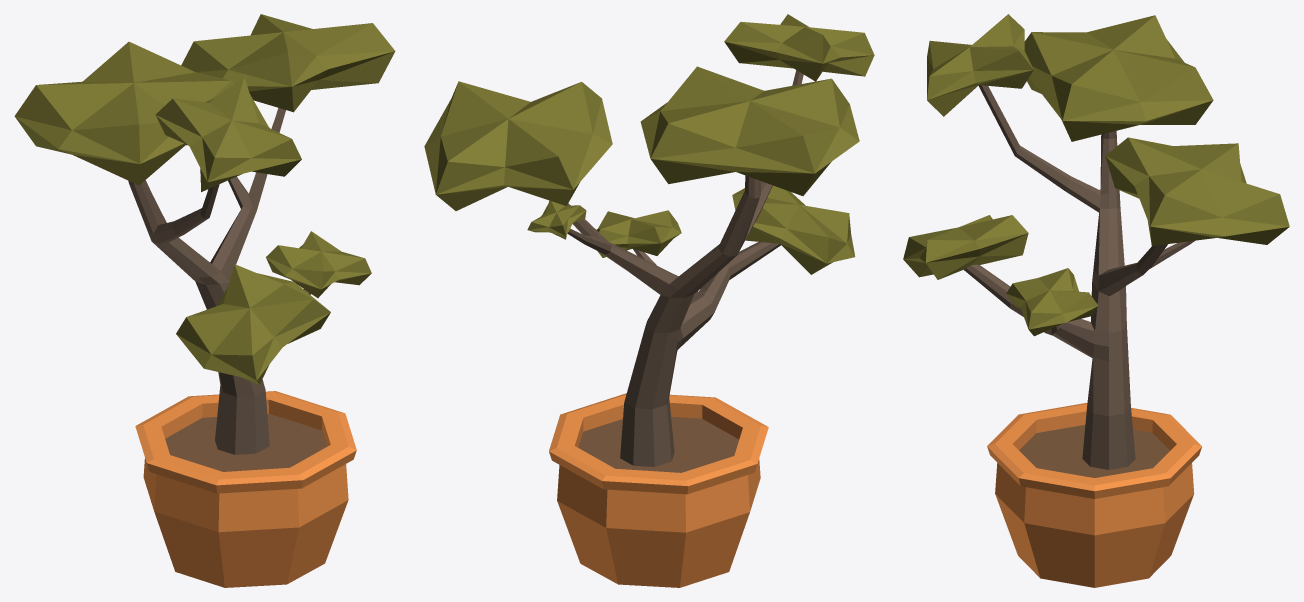
File: Bonsai_231109.glb
The picture shows the model from 3 angles, left to right: view 1: azimuth 30°, elevation 25°; view 2: azimuth 150°, elevation 25°; view 3: azimuth 270°, elevation 25°; orthographic projection. The views are drawn at different scales.
Visible parts, largest first — view 1: Bonsai; view 2: Bonsai; view 3: Bonsai.
Part boxes in pixels (x1=…): Bonsai: x1=14, y1=14, x2=395, y2=587; Bonsai: x1=424, y1=14, x2=874, y2=587; Bonsai: x1=903, y1=14, x2=1289, y2=587.
Bounding box in the file's own units: 0.6486 × 0.86 × 0.6191.
1 material, 1 textured.
